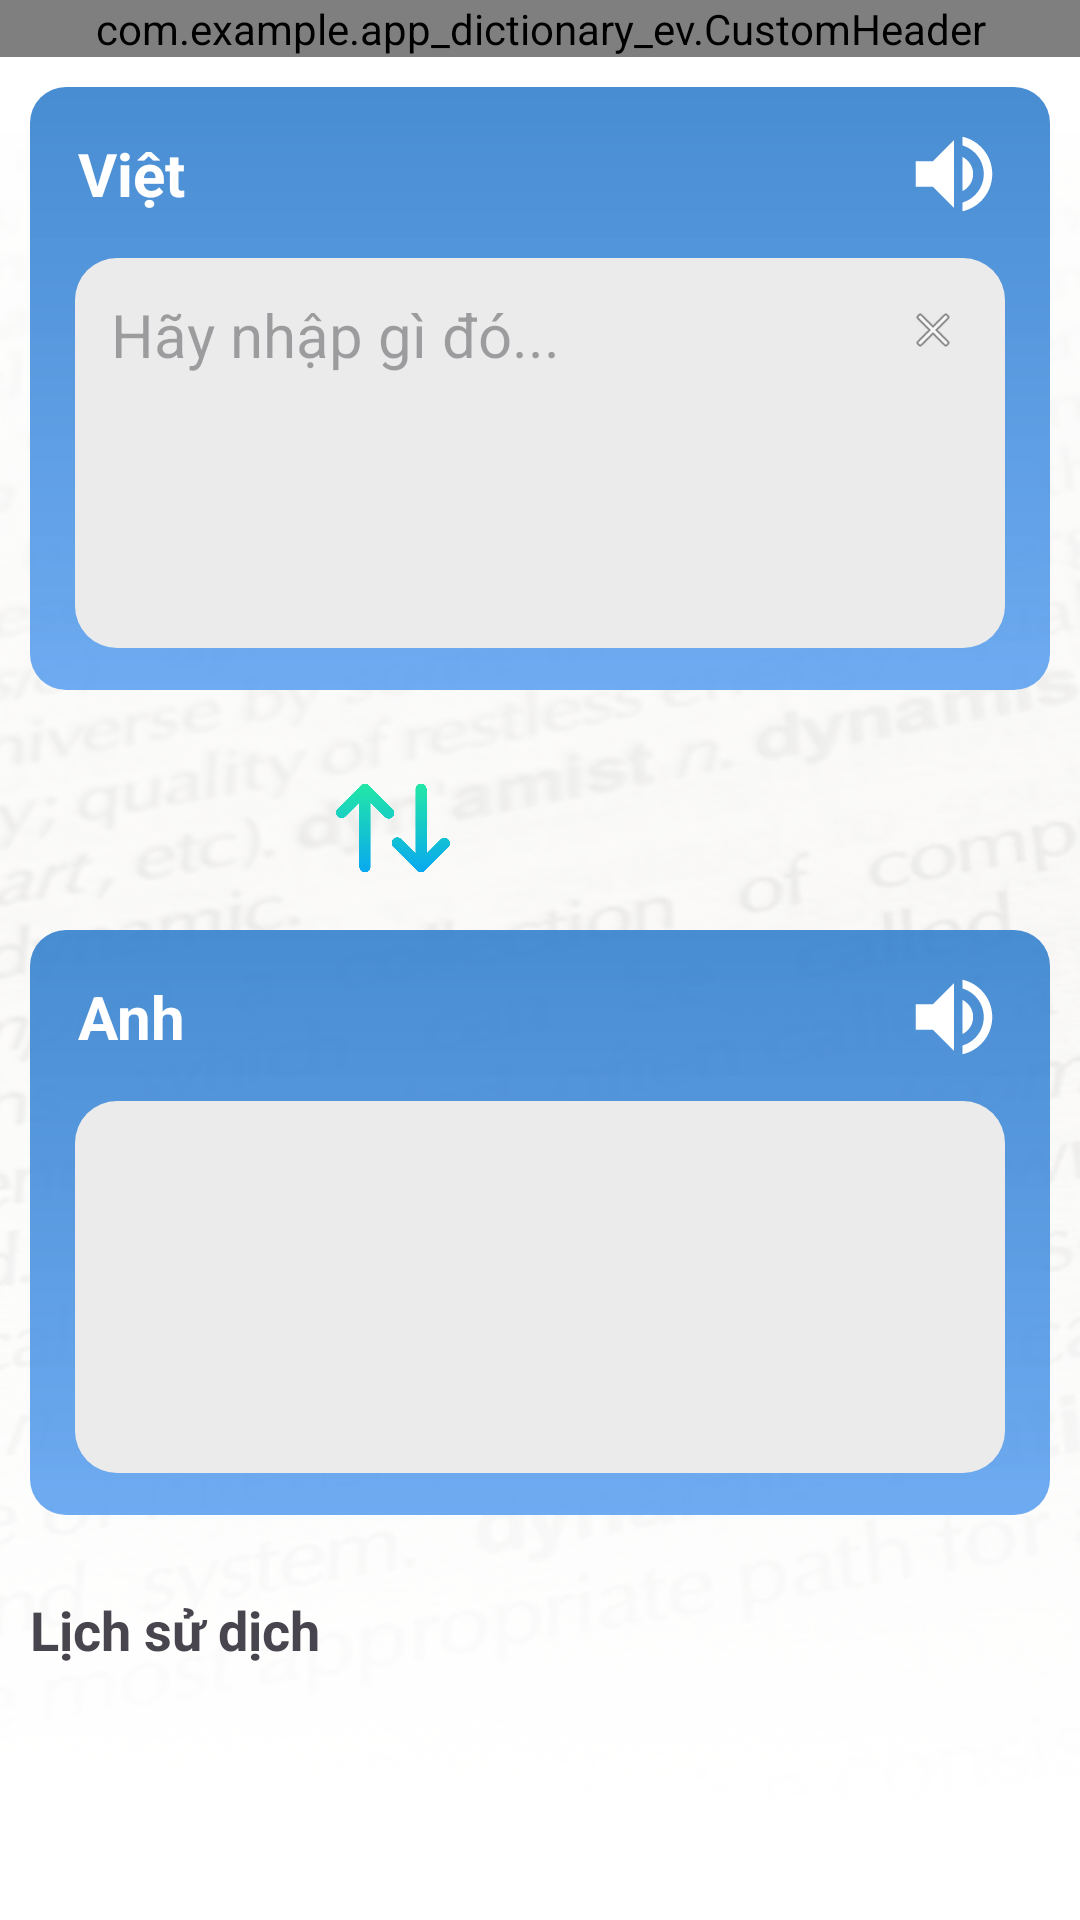

Named icons in this screenshot (1080px x 1920px) and their centers, point (x, y):
Speak English: point (954, 1017)
Speak Vietnamese: point (954, 174)
Swap languages: point (393, 828)
